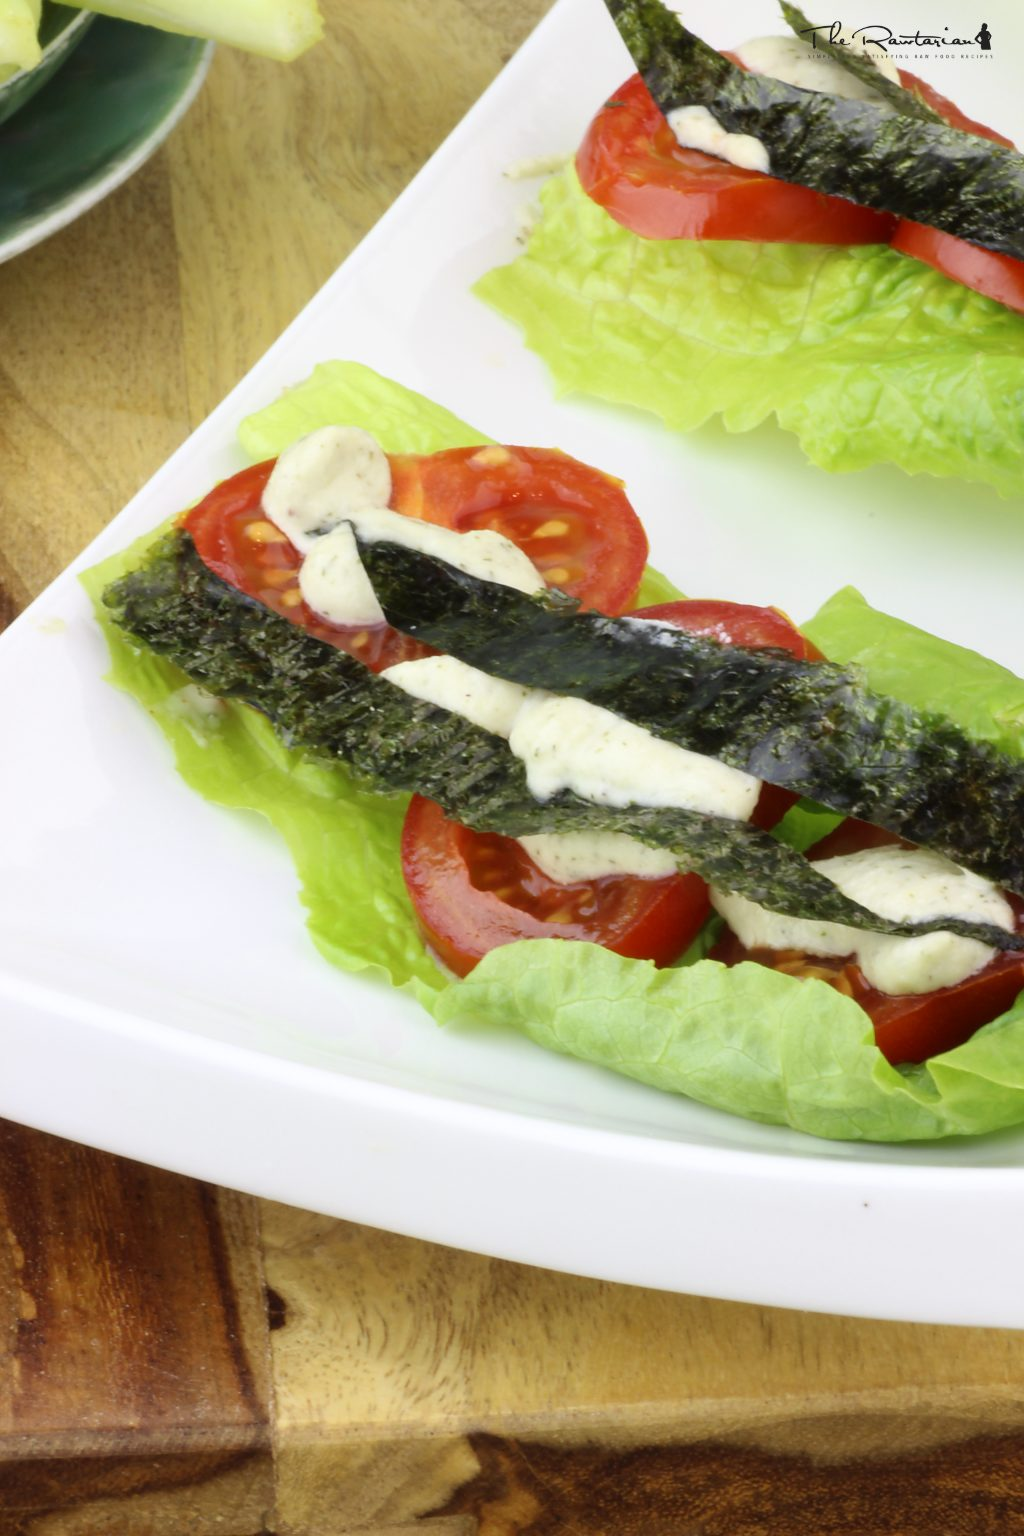bacon: (438, 459, 609, 538)
